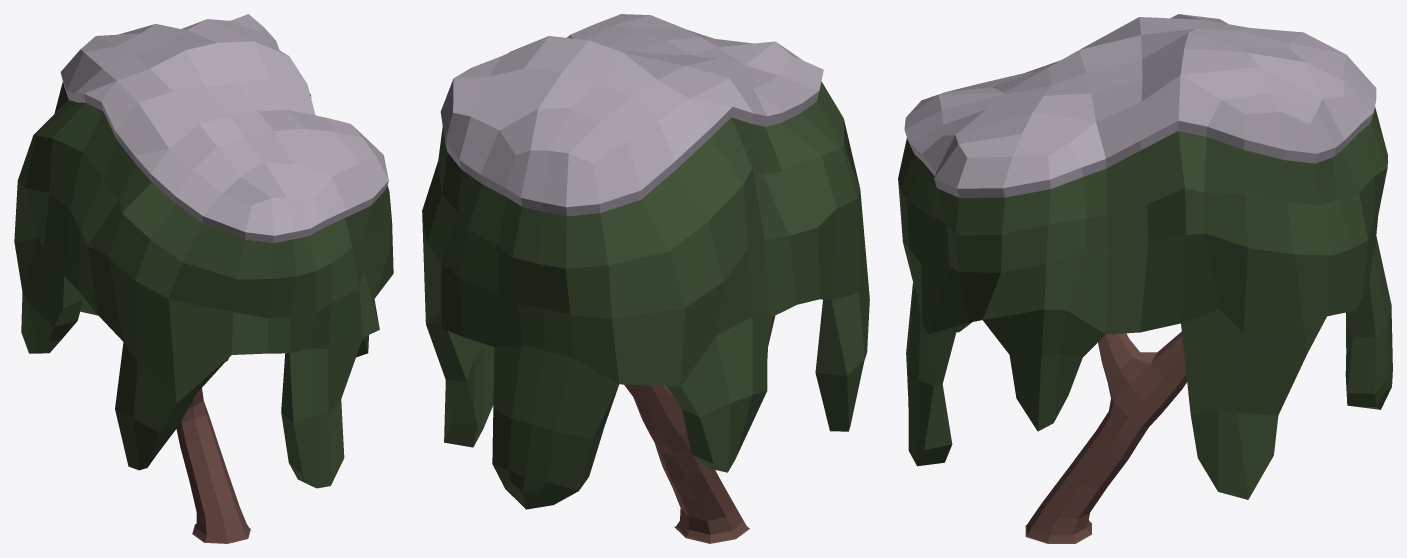
Rendered from Willow_Snow_4.gltf.
The picture shows the model from 3 angles, left to right: view 1: azimuth 30°, elevation 25°; view 2: azimuth 150°, elevation 25°; view 3: azimuth 270°, elevation 25°; orthographic projection. The views are drawn at different scales.
Visible parts, largest first — view 1: Willow_Snow_4; view 2: Willow_Snow_4; view 3: Willow_Snow_4.
Part boxes in pixels (box(x1,y1,x2,y2)): Willow_Snow_4: box(14, 14, 393, 543); Willow_Snow_4: box(422, 14, 869, 543); Willow_Snow_4: box(898, 14, 1392, 543).
Bounding box in the file's own units: 2.19 × 3.46 × 3.04.
